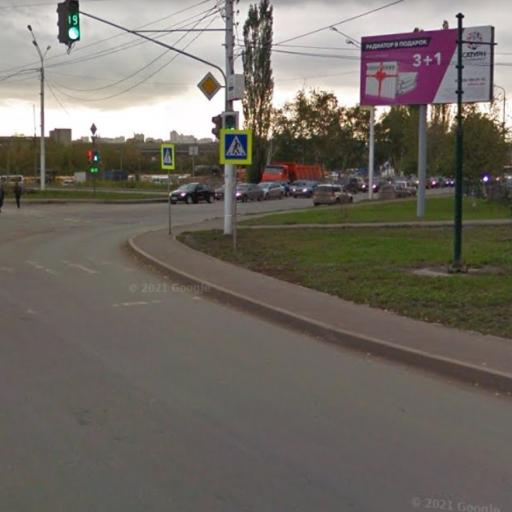traffic_sign: (219, 129, 254, 166), (197, 68, 224, 105), (161, 144, 177, 172)
